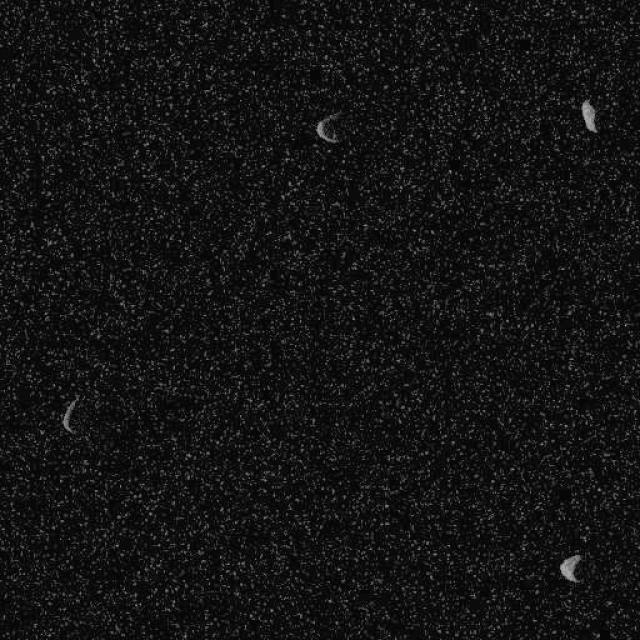D2: (314, 110, 344, 144), (60, 396, 79, 434), (559, 552, 581, 582), (580, 99, 598, 132)
